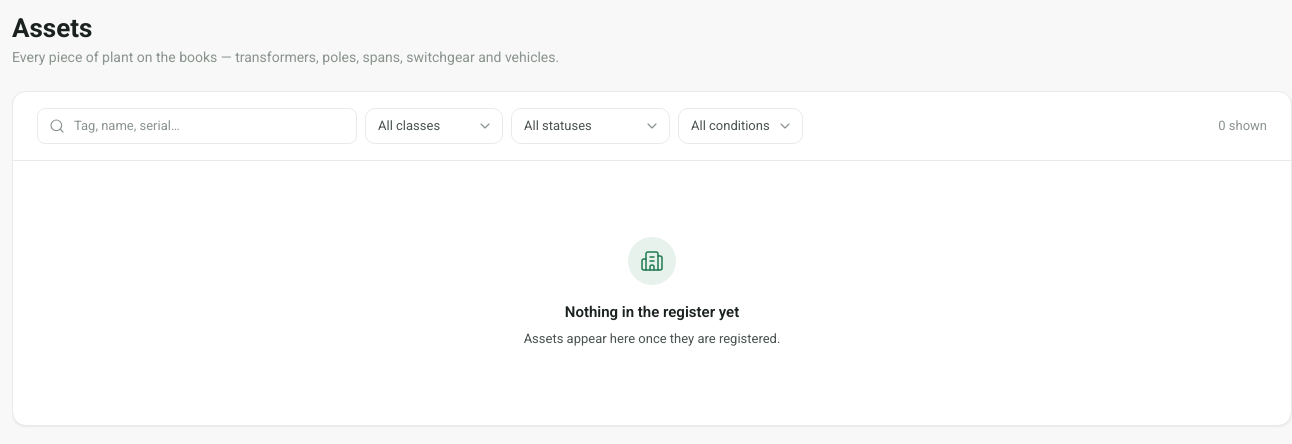
Scenario: AssetsPage › shows a filtered empty state
Expected: the heading "Nothing in the register yet" is shown, [565,300,739,323]
Type "nothing" into the search field named "Search assets" at (197, 126), box [37,108,357,144]
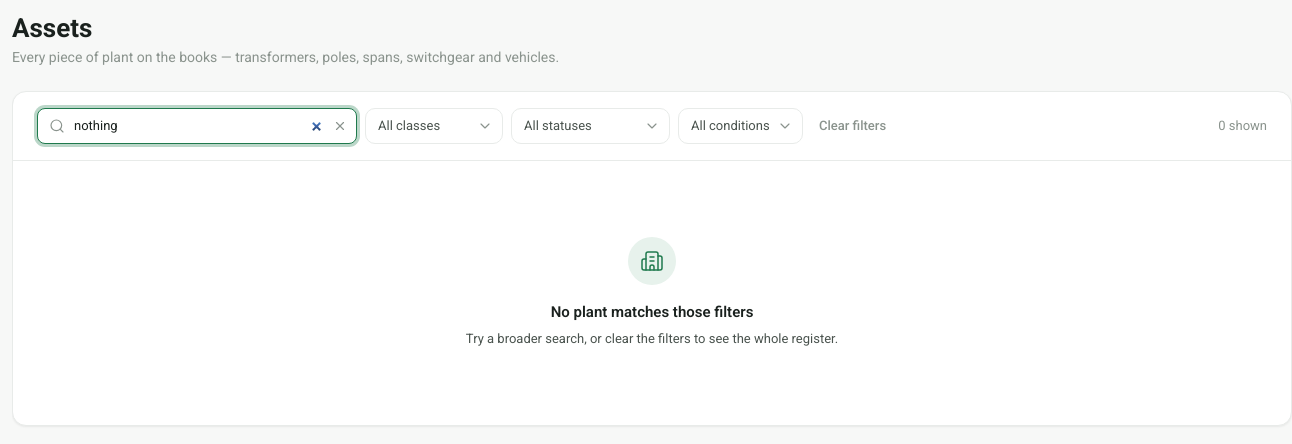
Now the heading "No plant matches those filters" is shown, box [551,300,753,323]
Now the button "Clear filters" is shown, box [811,108,894,144]
